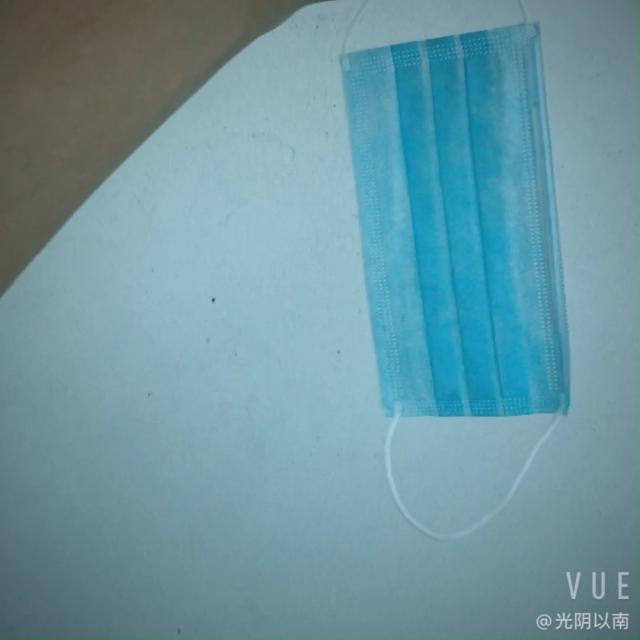face mask: (316, 21, 584, 428)
